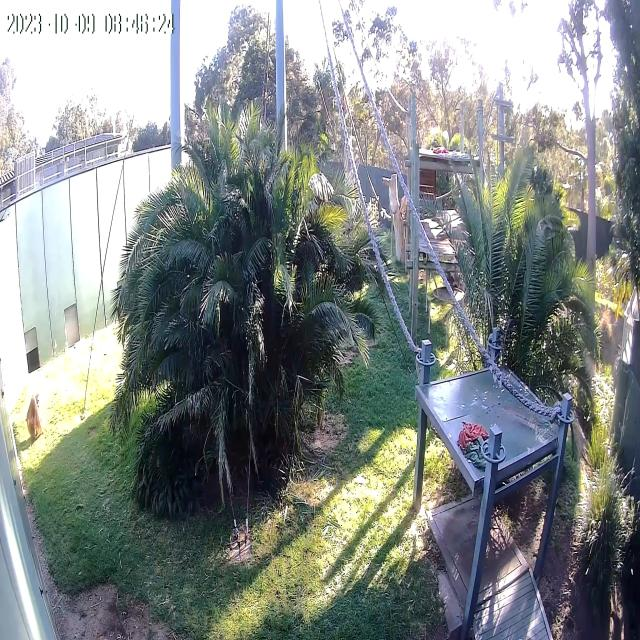orangutan: (26, 392, 43, 441)
